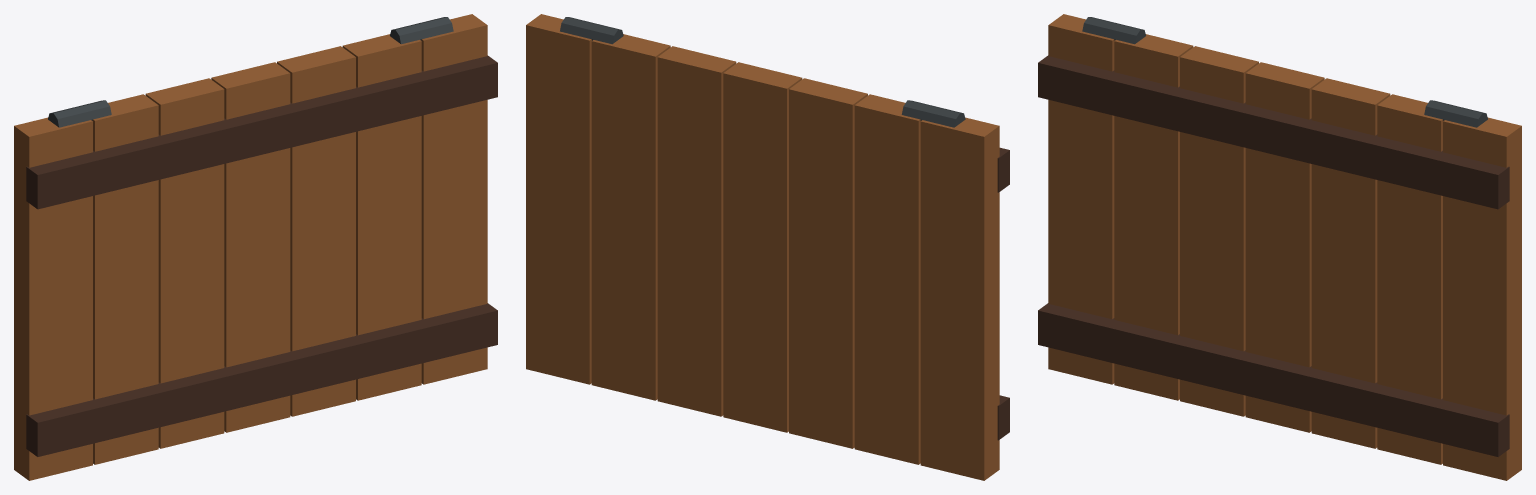
Rendered from 853_upward_hinged_shop_hatch_canopy.fbx.
3 views of the same model, side by side, from view 1: azimuth 30°, elevation 25°; view 2: azimuth 150°, elevation 25°; view 3: azimuth 330°, elevation 25° (orthographic).
Visible parts, largest first — view 1: 853_upward_hinged_shop_hatch_canopy; view 2: 853_upward_hinged_shop_hatch_canopy; view 3: 853_upward_hinged_shop_hatch_canopy.
Boxes of the visible parts, left/top/right/bottom form: 853_upward_hinged_shop_hatch_canopy: left=14, top=14, right=497, bottom=480; 853_upward_hinged_shop_hatch_canopy: left=526, top=14, right=1009, bottom=480; 853_upward_hinged_shop_hatch_canopy: left=1038, top=14, right=1521, bottom=480.
Size of the model in its own units: 1.4 by 1.03 by 0.13.
1 material, 1 textured.
